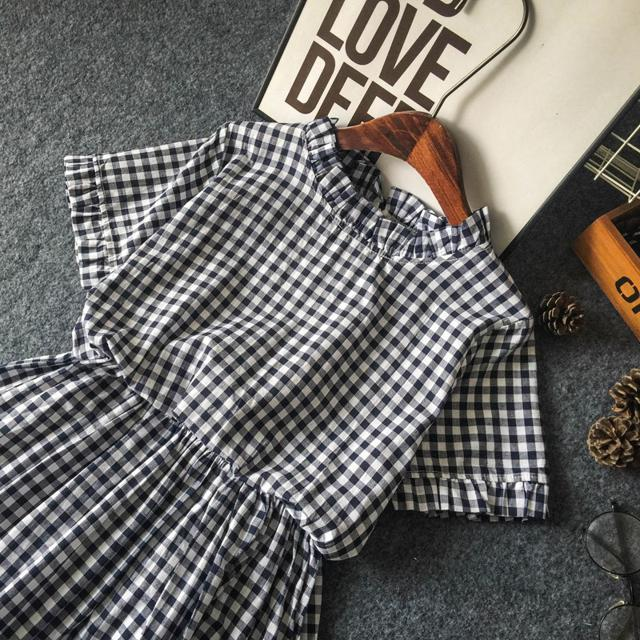Dresses: (1, 120, 548, 640)
